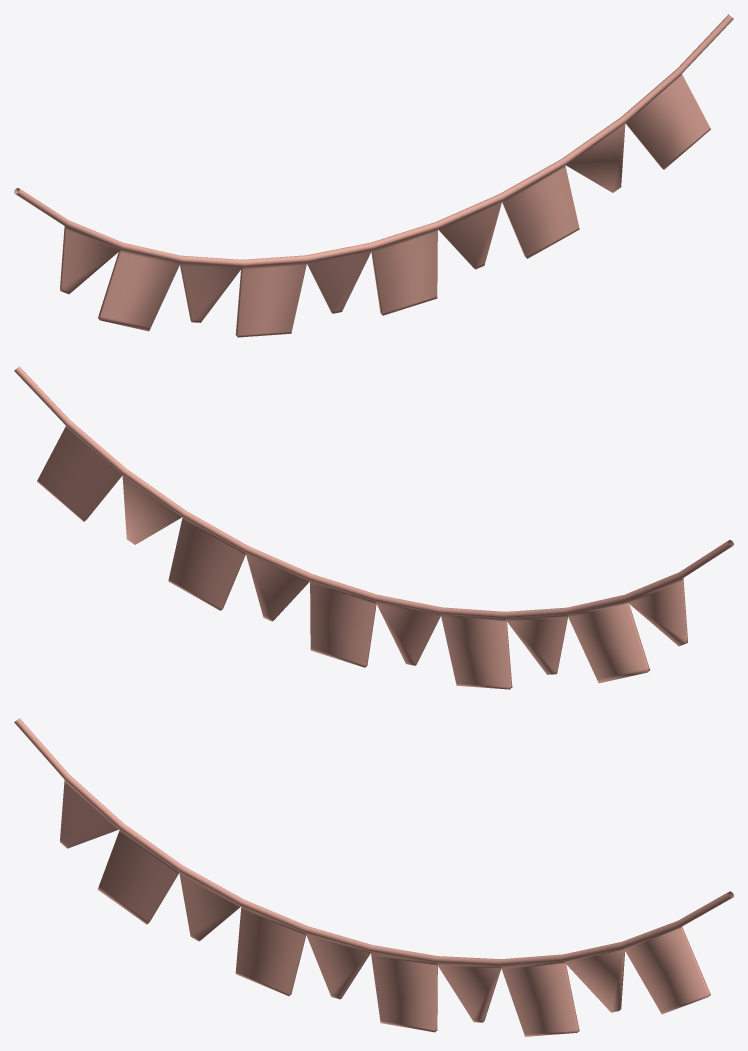
The model's file is Flags.fbx.
3 views of the same model, one above another, from view 1: azimuth 30°, elevation 25°; view 2: azimuth 150°, elevation 25°; view 3: azimuth 330°, elevation 25° (orthographic).
Parts seen in each view (by area): view 1: Scary_flags; view 2: Scary_flags; view 3: Scary_flags.
Part boxes in pixels (x1,y1,x2,y2): Scary_flags: (14, 14, 733, 337); Scary_flags: (14, 366, 733, 689); Scary_flags: (14, 718, 733, 1036).
Bounding box in the file's own units: 705 × 202 × 6.06.
